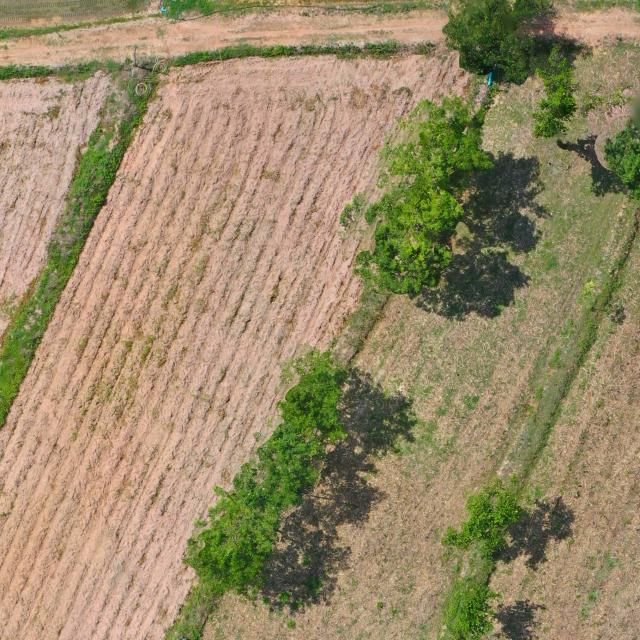Tree: (179, 485, 282, 595), (440, 0, 534, 89), (232, 421, 324, 508), (352, 222, 458, 295), (275, 349, 346, 437), (416, 106, 495, 180), (441, 492, 519, 560), (398, 179, 466, 238), (456, 584, 503, 636)
